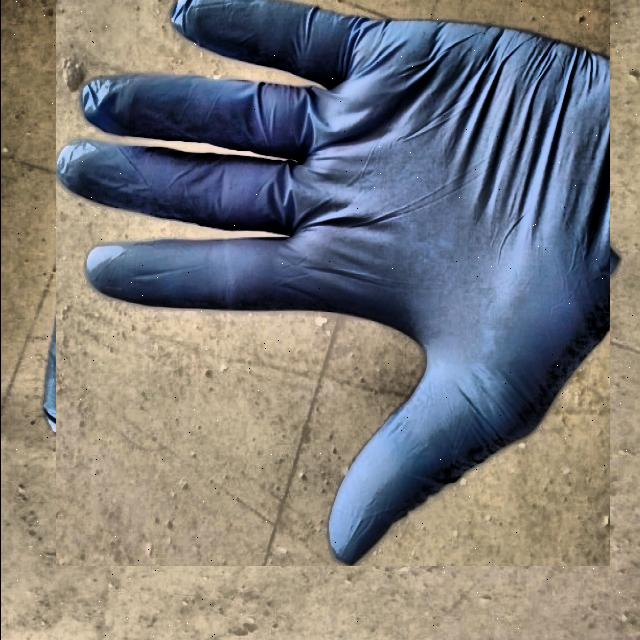gloved: (49, 0, 615, 560)
